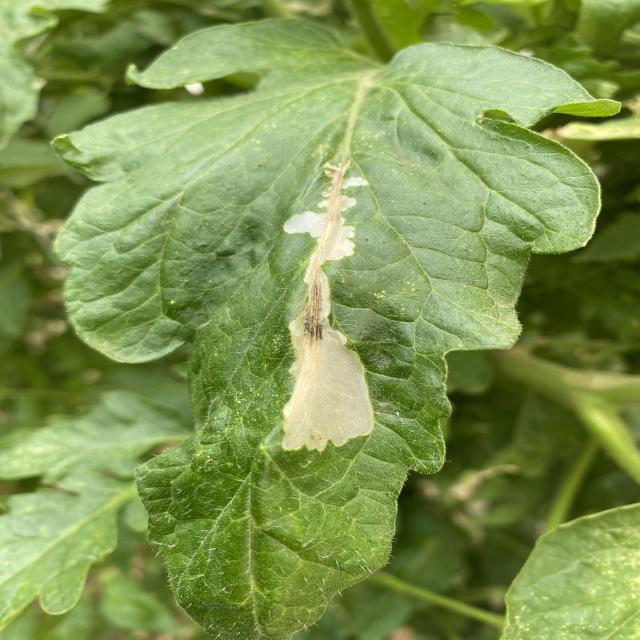Tuta absoluta: (282, 162, 376, 451)
